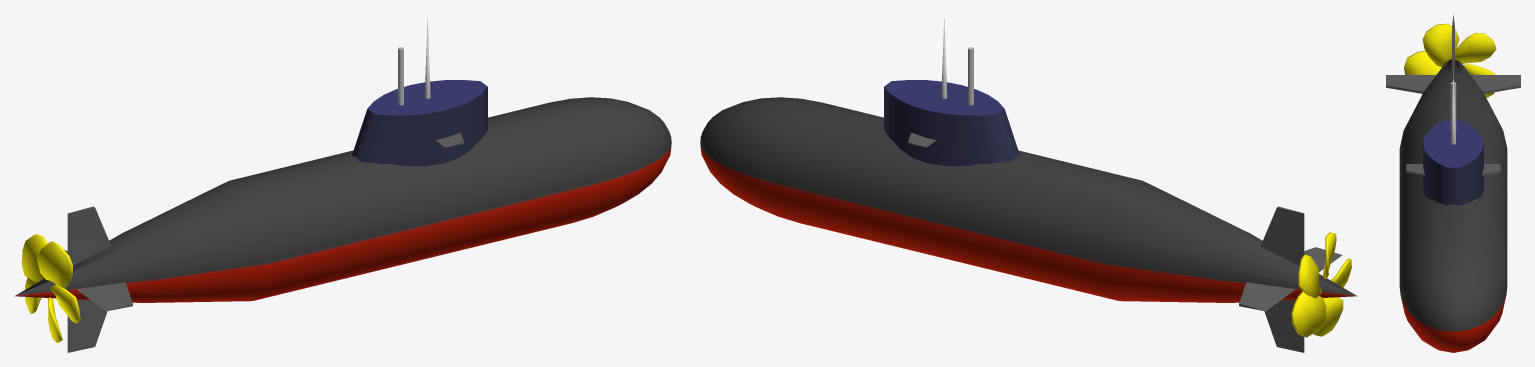
The model's file is submarine.obj.
3 renders of one model, left to right at view 1: azimuth 30°, elevation 25°; view 2: azimuth 150°, elevation 25°; view 3: azimuth 270°, elevation 25°, orthographic. The views are drawn at different scales.
Visible parts, largest first — view 1: pSphere1, pCylinder1, pCube1, pCylinder6, pCube6, pCylinder5, pCylinder7; view 2: pSphere1, pCylinder1, pCube1, pCube6, pCylinder4, pCylinder5, pCylinder2; view 3: pSphere1, pCylinder1, pCube6, pCylinder6, pCylinder5, pCylinder7, pCube7, pCylinder4, pCone2, pCylinder3, pCube1.
Part boxes in pixels (x1,y1,x2,y2): pSphere1: (14,97,671,302); pCylinder1: (352,80,487,166); pCube1: (67,206,111,352); pCylinder6: (37,241,72,287); pCube6: (64,250,132,311); pCylinder5: (21,234,47,281); pCylinder7: (50,285,80,323); pSphere1: (700,97,1357,302); pCylinder1: (884,80,1019,166); pCube1: (1260,206,1304,352); pCube6: (1239,247,1342,311); pCylinder4: (1291,291,1326,337); pCylinder5: (1298,254,1321,298); pCylinder2: (1313,297,1343,336); pSphere1: (1399,59,1507,352); pCylinder1: (1423,119,1483,205); pCube6: (1386,75,1520,93); pCylinder6: (1422,23,1459,67); pCylinder5: (1455,33,1496,63); pCylinder7: (1404,51,1441,74); pCube7: (1406,164,1500,175); pCylinder4: (1463,64,1495,97); pCone2: (1450,70,1456,144); pCylinder3: (1450,82,1456,131); pCube1: (1452,14,1454,70).
Bounding box in the file's own units: 24.5 × 9 × 5.
1 material, 1 textured.
